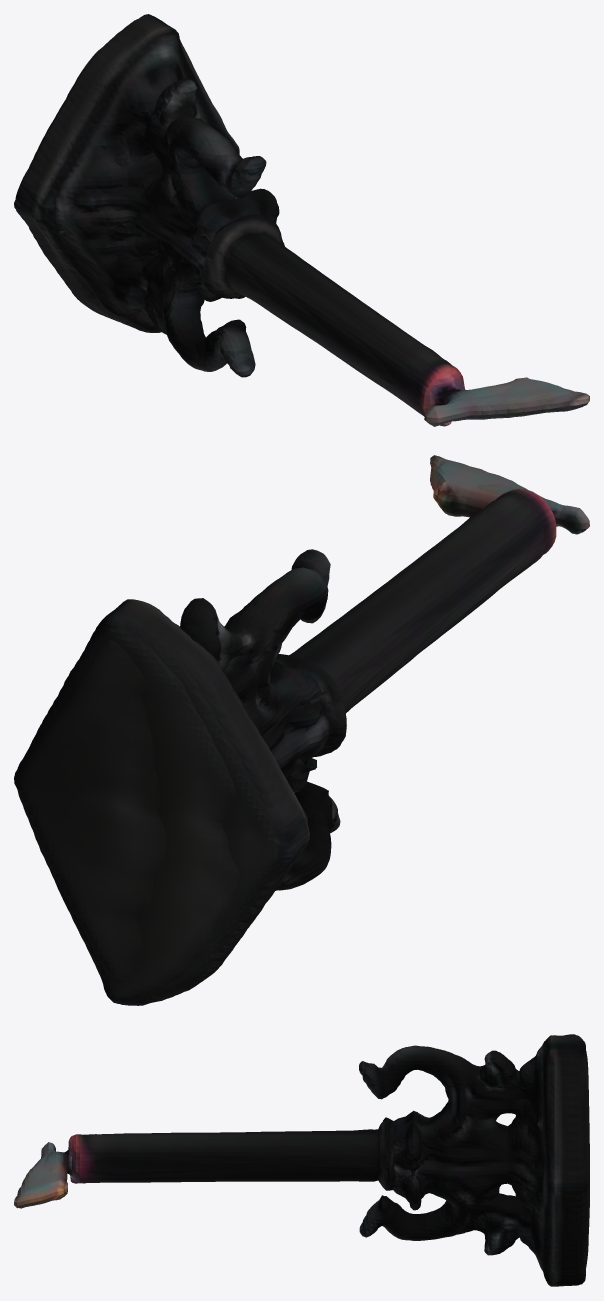
The model's file is gothiccandlestick,sideview1716873307.obj.
The picture shows the model from 3 angles, top to bottom: view 1: azimuth 30°, elevation 25°; view 2: azimuth 150°, elevation 25°; view 3: azimuth 270°, elevation 25°; orthographic projection. The views are drawn at different scales.
Size of the model in its own units: 0.3837 by 0.4755 by 1.
